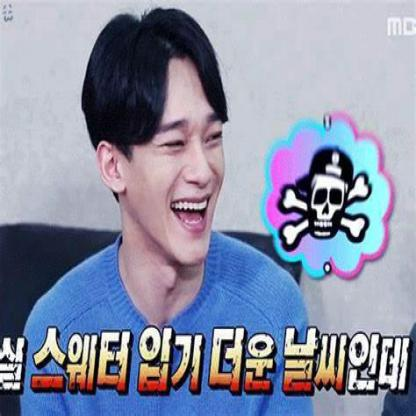skull: (277, 162, 372, 252)
